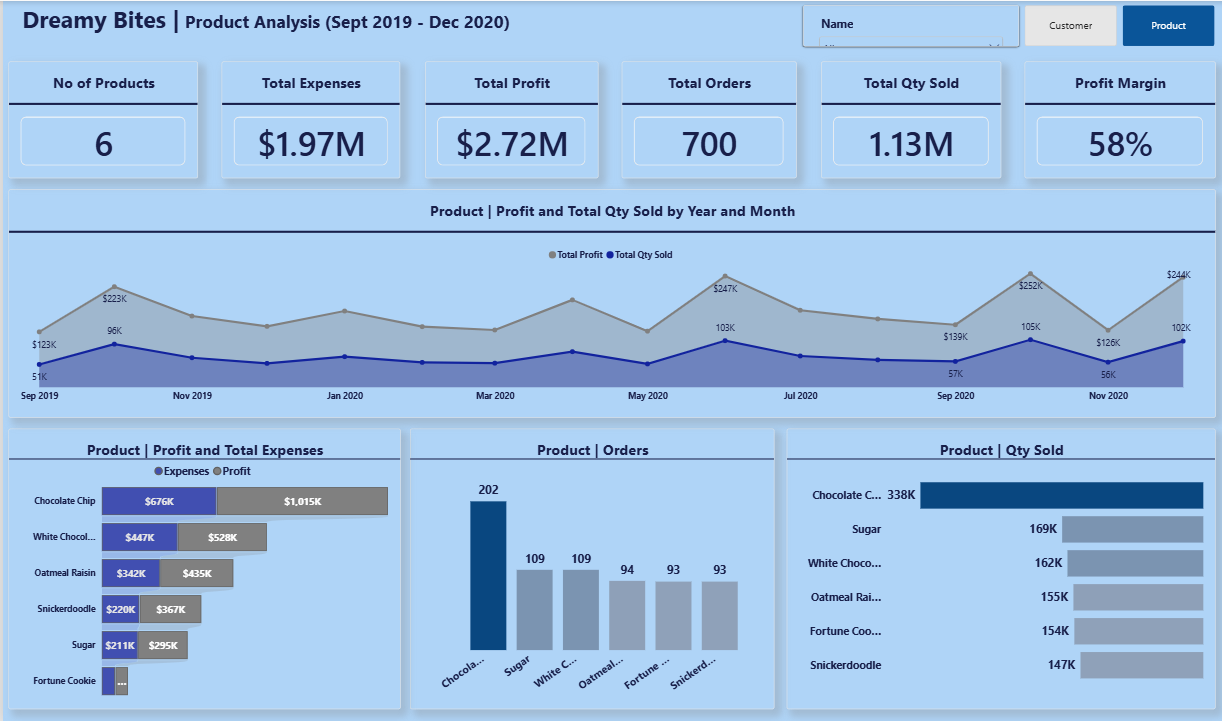

This screenshot's page, from the dashboard's own definition file:
{"tool":"powerbi","page":{"name":"Product","canvas":[1700,1000],"ordinal":1},"visuals":[{"type":"clusteredColumnChart","title":"Product | Orders","fields":{"Y":["Calc_Measures Table.Total Orders"],"Category":["Order_fact.Product"]},"box":[565.4,594,506.2,389.7],"z":0},{"type":"clusteredBarChart","title":"Product | Qty Sold ","fields":{"Y":["Calc_Measures Table.Total Qty Sold"],"Category":["Order_fact.Product"]},"box":[1088.8,594,596,389.7],"z":1000},{"type":"barChart","title":"Product | Profit and Total Expenses ","fields":{"Y":["Calc_Measures Table.Total Expenses","Calc_Measures Table.Total Profit"],"Category":["Order_fact.Product"]},"box":[7.6,594,544.4,389.7],"z":2000},{"type":"cardVisual","title":"No of Products","fields":{"Data":["Calc_Measures Table.No of Products"]},"box":[7.6,84,263.6,162.4],"z":3000},{"type":"cardVisual","title":"Total Expenses","fields":{"Data":["Calc_Measures Table.Total Expenses"]},"box":[304.5,84,248.3,162.4],"z":4000},{"type":"cardVisual","title":"Total Orders","fields":{"Data":["Calc_Measures Table.Total Orders"]},"box":[859.9,84,242.6,162.4],"z":5000},{"type":"cardVisual","title":"Total Profit","fields":{"Data":["Calc_Measures Table.Total Profit"]},"box":[586,84,240.7,162.4],"z":6000},{"type":"textbox","box":[26.7,3.8,735.4,66.9],"z":7000},{"type":"slicer","fields":{"Values":["Customers_Dim.Name"]},"box":[1111.7,5.7,299.9,57.3],"z":8000},{"type":"pageNavigator","box":[1419.2,5.7,265.5,57.3],"z":9000},{"type":"cardVisual","title":"Total Qty Sold","fields":{"Data":["Calc_Measures Table.Total Qty Sold"]},"box":[1135.7,84,250.2,162.4],"z":10000},{"type":"cardVisual","title":"Profit Margin","fields":{"Data":["Calc_Measures Table.Profit Margin"]},"box":[1419.2,84,265.5,162.4],"z":11000},{"type":"areaChart","title":"Product | Profit and Total Qty Sold by Year and Month","fields":{"Category":["Order_fact.Date.Variation.Date Hierarchy.Year","Order_fact.Date.Variation.Date Hierarchy.Month"],"Y":["Calc_Measures Table.Total Profit","Calc_Measures Table.Total Qty Sold"]},"box":[7.6,261.7,1677.1,317.1],"z":12000}]}

Visuals, with their boxes in screenshot pixels (x1, y1, x2, y2), scaled from the page's 1700x1000 canvas onto the 1222x721 screenshot:
"Product | Orders" clusteredColumnChart: {"left": 406, "top": 428, "right": 770, "bottom": 709}
"Product | Qty Sold " clusteredBarChart: {"left": 783, "top": 428, "right": 1211, "bottom": 709}
"Product | Profit and Total Expenses " barChart: {"left": 5, "top": 428, "right": 397, "bottom": 709}
"No of Products" cardVisual: {"left": 5, "top": 61, "right": 195, "bottom": 178}
"Total Expenses" cardVisual: {"left": 219, "top": 61, "right": 397, "bottom": 178}
"Total Orders" cardVisual: {"left": 618, "top": 61, "right": 793, "bottom": 178}
"Total Profit" cardVisual: {"left": 421, "top": 61, "right": 594, "bottom": 178}
textbox: {"left": 19, "top": 3, "right": 548, "bottom": 51}
slicer - Customers_Dim.Name: {"left": 799, "top": 4, "right": 1015, "bottom": 45}
pageNavigator: {"left": 1020, "top": 4, "right": 1211, "bottom": 45}
"Total Qty Sold" cardVisual: {"left": 816, "top": 61, "right": 996, "bottom": 178}
"Profit Margin" cardVisual: {"left": 1020, "top": 61, "right": 1211, "bottom": 178}
"Product | Profit and Total Qty Sold by Year and Month" areaChart: {"left": 5, "top": 189, "right": 1211, "bottom": 417}
